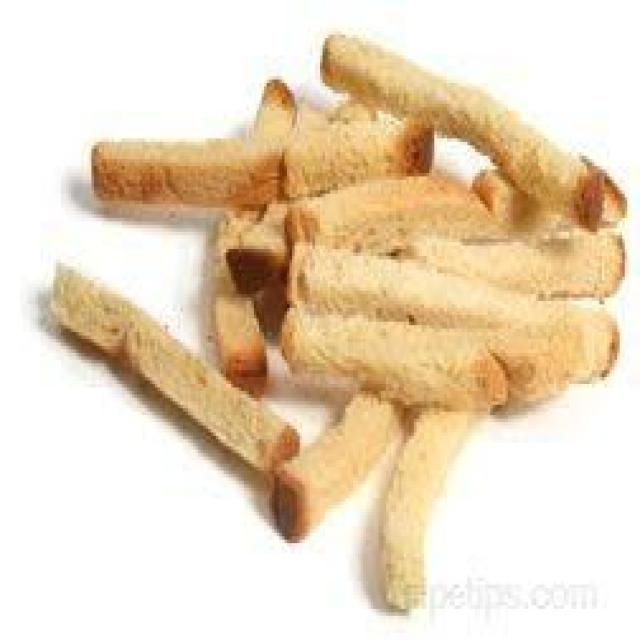organic: (48, 35, 632, 619)
